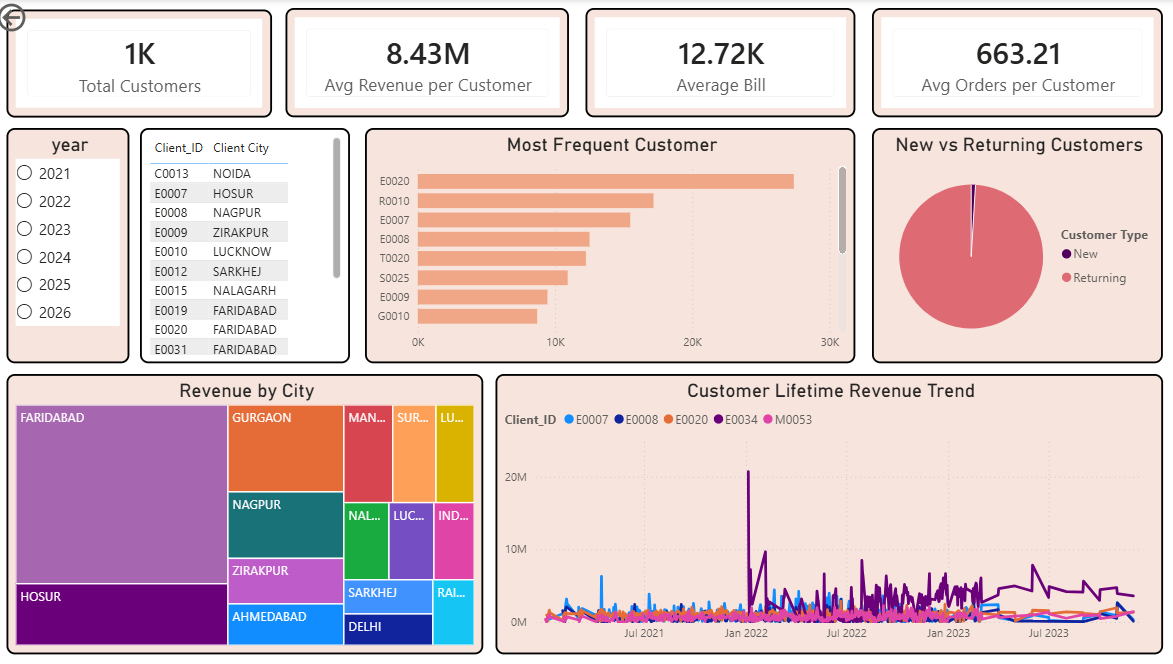

Layout of this report page (visuals, bound fields, positions):
{"tool":"powerbi","page":{"name":"Customer Analytics","canvas":[1280,720],"ordinal":1},"visuals":[{"type":"cardVisual","fields":{"Data":["DateTable.Total Customers"]},"box":[14.6,11.3,286.6,116.6],"z":0},{"type":"cardVisual","fields":{"Data":["DateTable.Avg Revenue per Customer"]},"box":[315.7,9.7,306,118.2],"z":1000},{"type":"cardVisual","fields":{"Data":["MeasureTable.Average Bill"]},"box":[639.6,9.7,291.5,118.2],"z":2000},{"type":"cardVisual","fields":{"Data":["MeasureTable.Avg Orders per Customer"]},"box":[948.9,9.7,314.1,118.2],"z":3000},{"type":"tableEx","fields":{"Values":["forecast_sales_data.Client_ID","forecast_sales_data.Client City"]},"box":[158.7,139.3,226.7,254.2],"z":5000},{"type":"clusteredBarChart","title":"Most Frequent Customer","fields":{"Y":["MeasureTable.Invoices"],"Category":["forecast_sales_data.Client_ID"]},"box":[401.6,139.3,529.5,254.2],"z":6000},{"type":"treemap","title":"Revenue by City","fields":{"Values":["Sum(forecast_sales_data.Total_Bill)"],"Details":["forecast_sales_data.Client City"]},"box":[14.6,404.8,514.9,302.8],"z":7000},{"type":"pieChart","title":"New vs Returning Customers","fields":{"Category":["forecast_sales_data.Customer Type"],"Y":["MeasureTable.Total Customers","Sum(forecast_sales_data.Total_Bill)"]},"box":[948.9,139.3,314.1,254.2],"z":8000},{"type":"lineChart","title":"Customer Lifetime Revenue Trend","fields":{"Series":["forecast_sales_data.Client_ID"],"Y":["Sum(forecast_sales_data.Total_Bill)"],"Category":["forecast_sales_data.Invoice Date"]},"box":[542.4,404.8,720.6,302.8],"z":9000},{"type":"actionButton","box":[0,0,100,40],"z":10000},{"type":"listSlicer","fields":{"Values":["forecast_sales_data.year"]},"box":[14.6,139.3,132.8,254.2],"z":10001}]}

Visuals, with their boxes in screenshot pixels (x1, y1, x2, y2), scaled from the page's 1280x720 canvas onto the 1173x664 screenshot:
cardVisual - DateTable.Total Customers: [13, 10, 276, 118]
cardVisual - DateTable.Avg Revenue per Customer: [289, 9, 570, 118]
cardVisual - MeasureTable.Average Bill: [586, 9, 853, 118]
cardVisual - MeasureTable.Avg Orders per Customer: [870, 9, 1157, 118]
tableEx - forecast_sales_data.Client_ID x forecast_sales_data.Client City: [145, 128, 353, 363]
"Most Frequent Customer" clusteredBarChart: [368, 128, 853, 363]
"Revenue by City" treemap: [13, 373, 485, 653]
"New vs Returning Customers" pieChart: [870, 128, 1157, 363]
"Customer Lifetime Revenue Trend" lineChart: [497, 373, 1157, 653]
actionButton: [0, 0, 92, 37]
listSlicer - forecast_sales_data.year: [13, 128, 135, 363]
